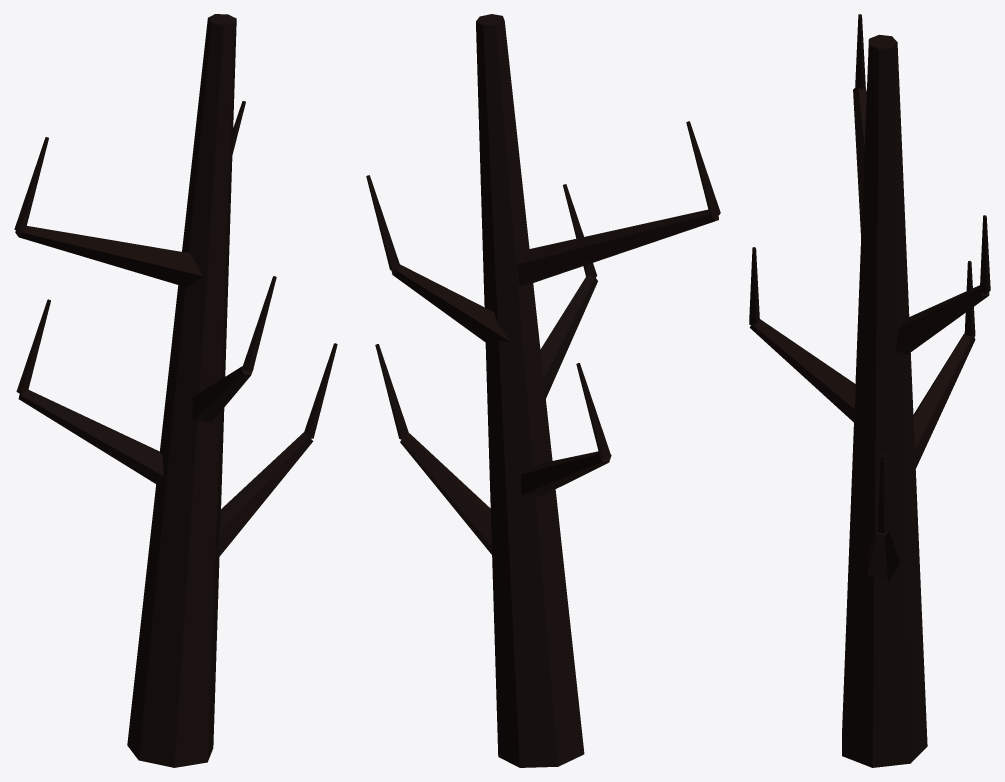
Rendered from Tree_Dead_01.fbx.
3 views of the same model, side by side, from view 1: azimuth 30°, elevation 25°; view 2: azimuth 150°, elevation 25°; view 3: azimuth 270°, elevation 25° (orthographic).
Visible parts, largest first — view 1: Tree_Dead_01_Trunk; view 2: Tree_Dead_01_Trunk; view 3: Tree_Dead_01_Trunk.
Boxes of the visible parts, bbox=[...] form: Tree_Dead_01_Trunk: bbox=[14, 14, 337, 767]; Tree_Dead_01_Trunk: bbox=[366, 14, 720, 767]; Tree_Dead_01_Trunk: bbox=[749, 14, 990, 767].
Size of the model in its own units: 1.94 by 4.02 by 1.2.
Materials: 1 (1 with a texture image).
